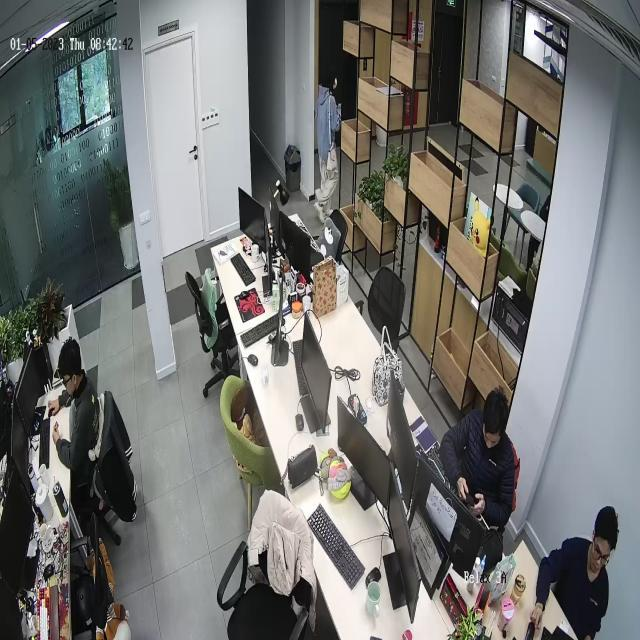person: (524, 506, 619, 640), (439, 386, 515, 531), (47, 339, 102, 484)
